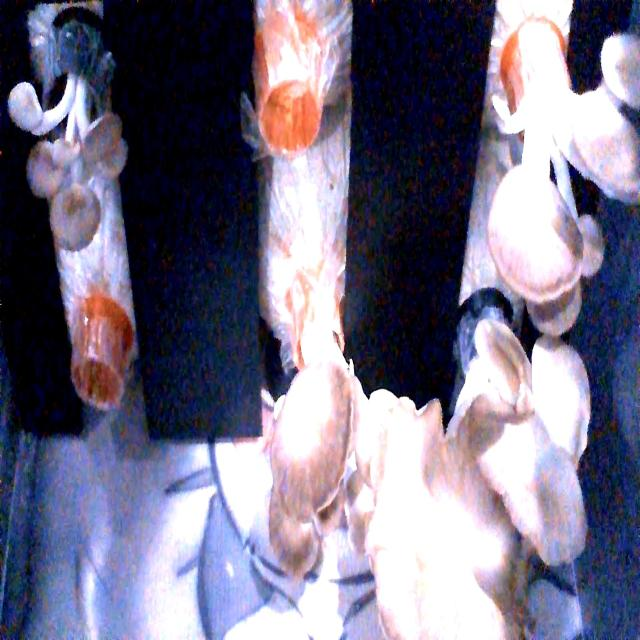big: (380, 369, 611, 640), (473, 16, 640, 341), (250, 349, 435, 601)
nfound: (259, 65, 327, 164), (62, 346, 132, 416)
small: (6, 59, 148, 248)
